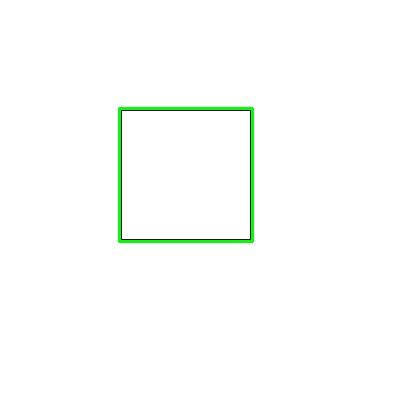line_segment: (118, 107, 254, 242)
